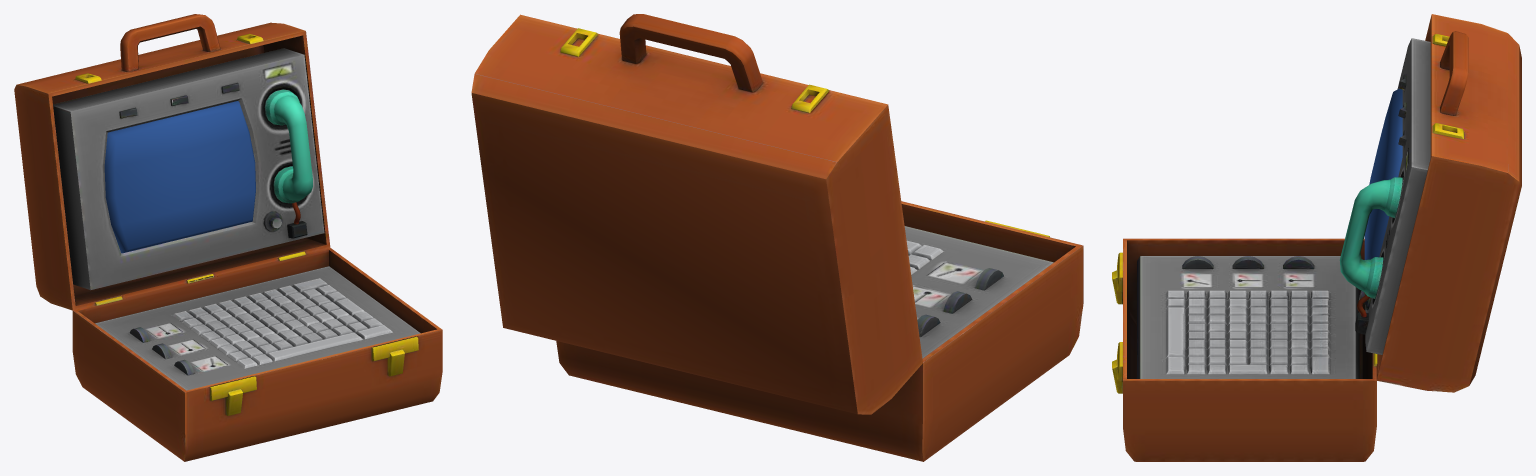
The model's file is Laptop_Retro.fbx.
3 views of the same model, side by side, from view 1: azimuth 30°, elevation 25°; view 2: azimuth 150°, elevation 25°; view 3: azimuth 270°, elevation 25° (orthographic). The views are drawn at different scales.
Parts seen in each view (by area): view 1: Laptop_Retro; view 2: Laptop_Retro; view 3: Laptop_Retro.
Boxes of the visible parts, x1,y1,x2,y2 form: Laptop_Retro: (14,14,442,461); Laptop_Retro: (471,14,1083,461); Laptop_Retro: (1112,14,1521,461).
Bounding box in the file's own units: 55.66 × 67.86 × 63.63.
